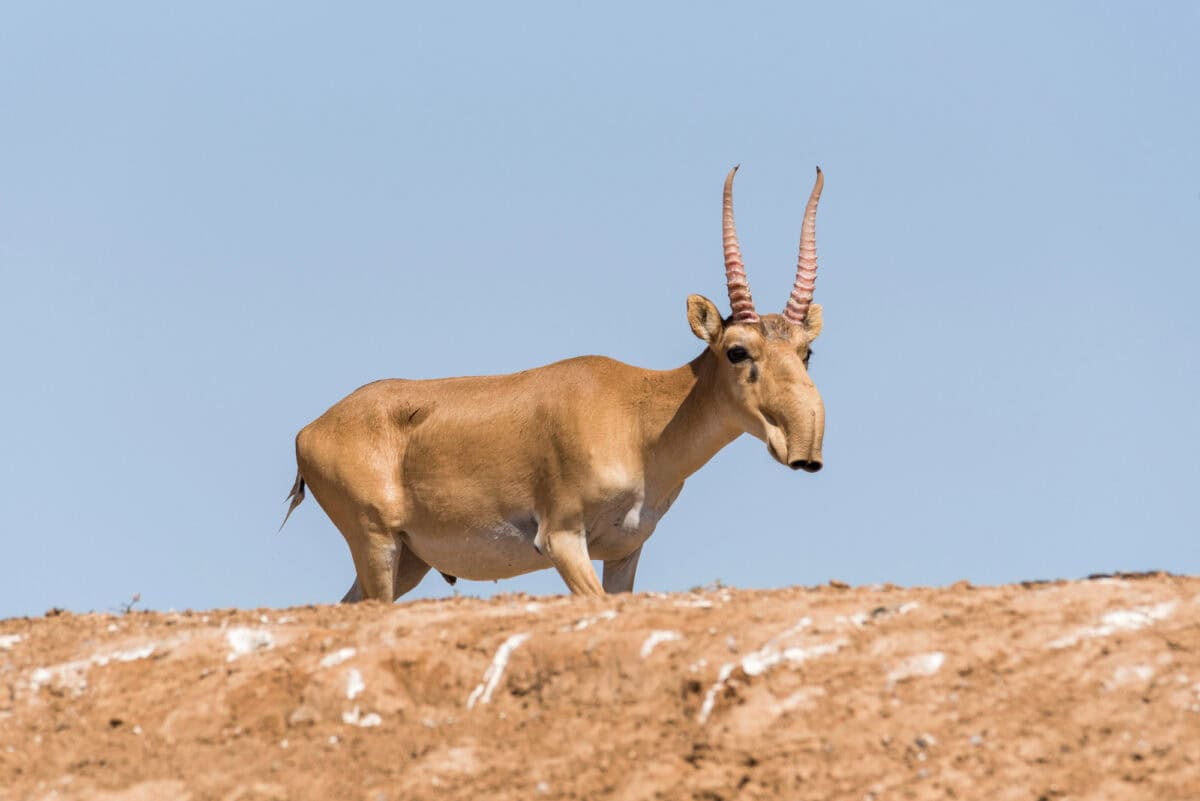saiga: (282, 158, 831, 642)
